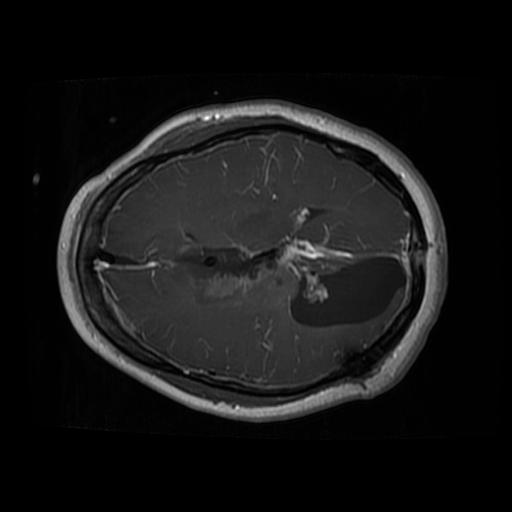glioma: (172, 235, 408, 333)
